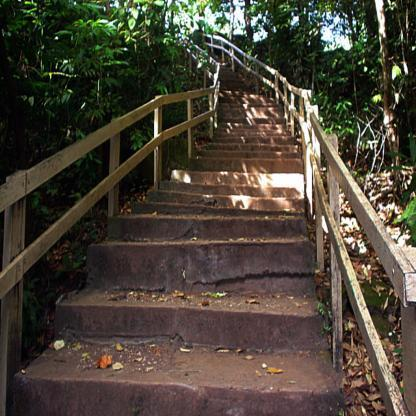person: (110, 90, 320, 414)
